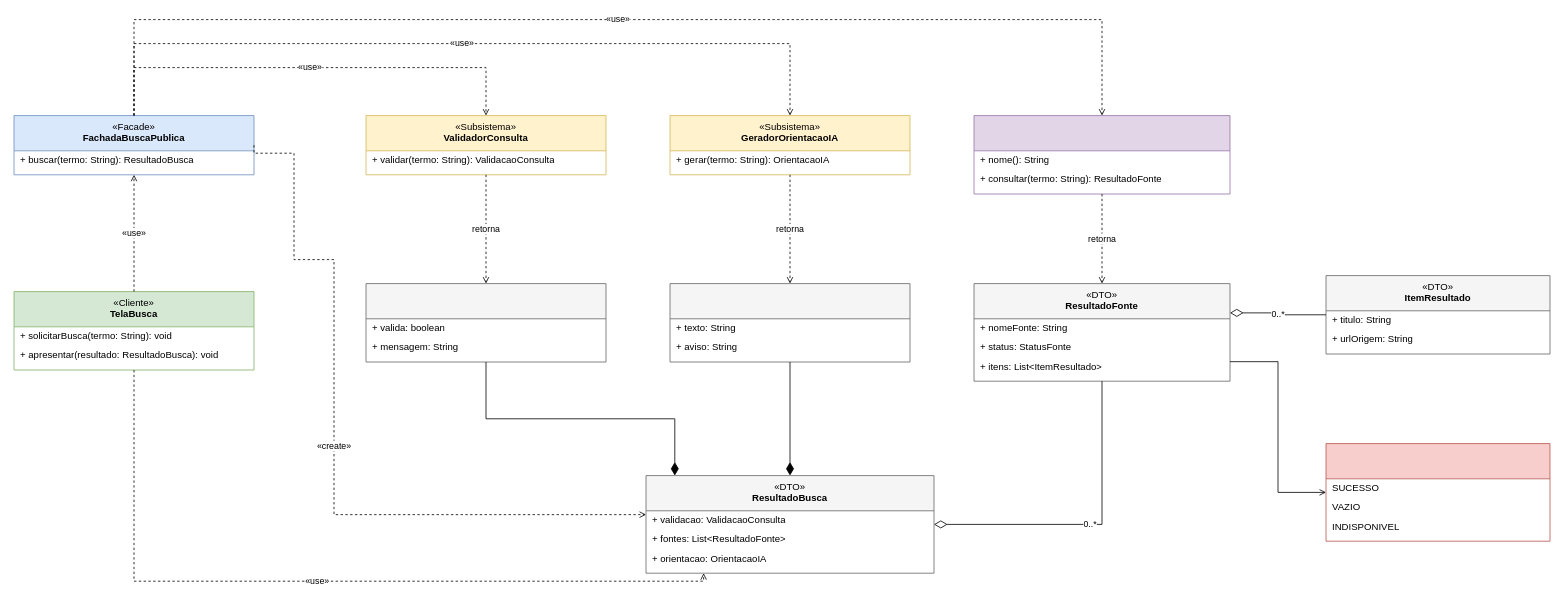
This 1564x602 diagram has some shape labels left out. The box of each missing label's shape, as (x1, y1, x2, y2) in pixels:
«DTO» OrientacaoIA: (669, 283, 910, 362)
«DTO» ValidacaoConsulta: (365, 283, 606, 362)
«enumeration» StatusFonte: (1325, 443, 1550, 541)
«interface» FonteBusca: (973, 115, 1230, 194)
